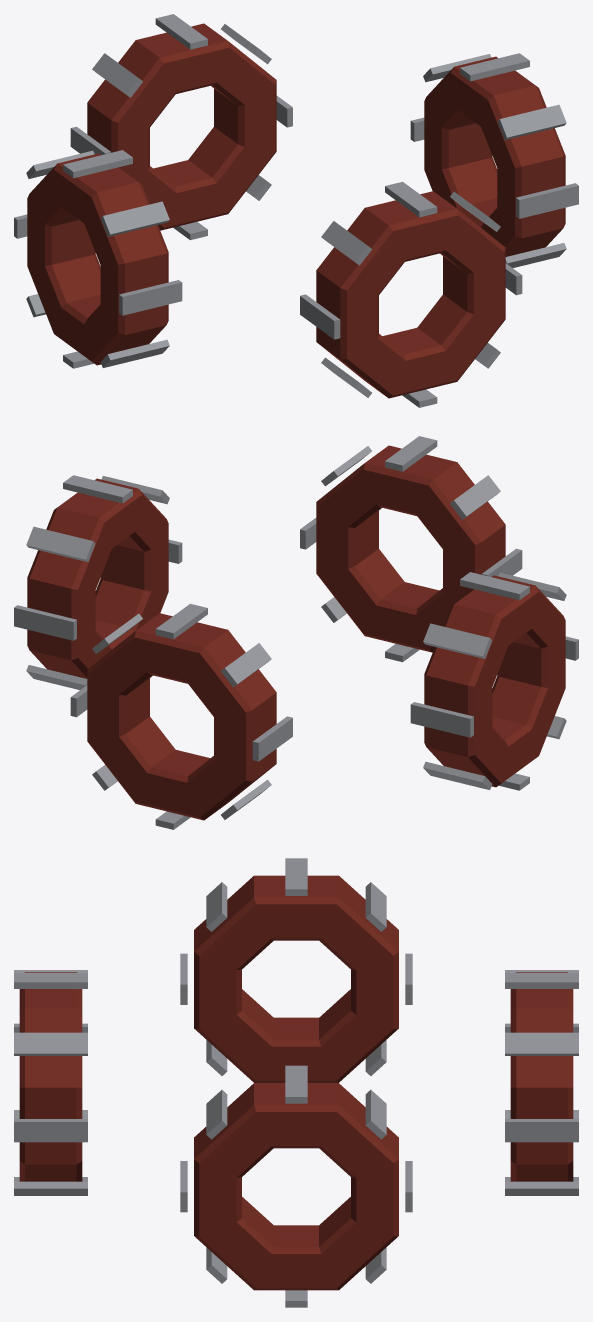
File: rcsh_coils.obj
3 renders of one model, top to bottom at view 1: azimuth 30°, elevation 25°; view 2: azimuth 150°, elevation 25°; view 3: azimuth 270°, elevation 25°, orthographic. The views are drawn at different scales.
Visible parts, largest first — view 1: rcsh_coils; view 2: rcsh_coils; view 3: rcsh_coils.
Boxes of the visible parts, box(x1,y1,x2,y2) form: rcsh_coils: box(14, 14, 578, 407); rcsh_coils: box(14, 436, 578, 829); rcsh_coils: box(14, 858, 578, 1307).
Bounding box in the file's own units: 1.53 × 0.63 × 1.53.
